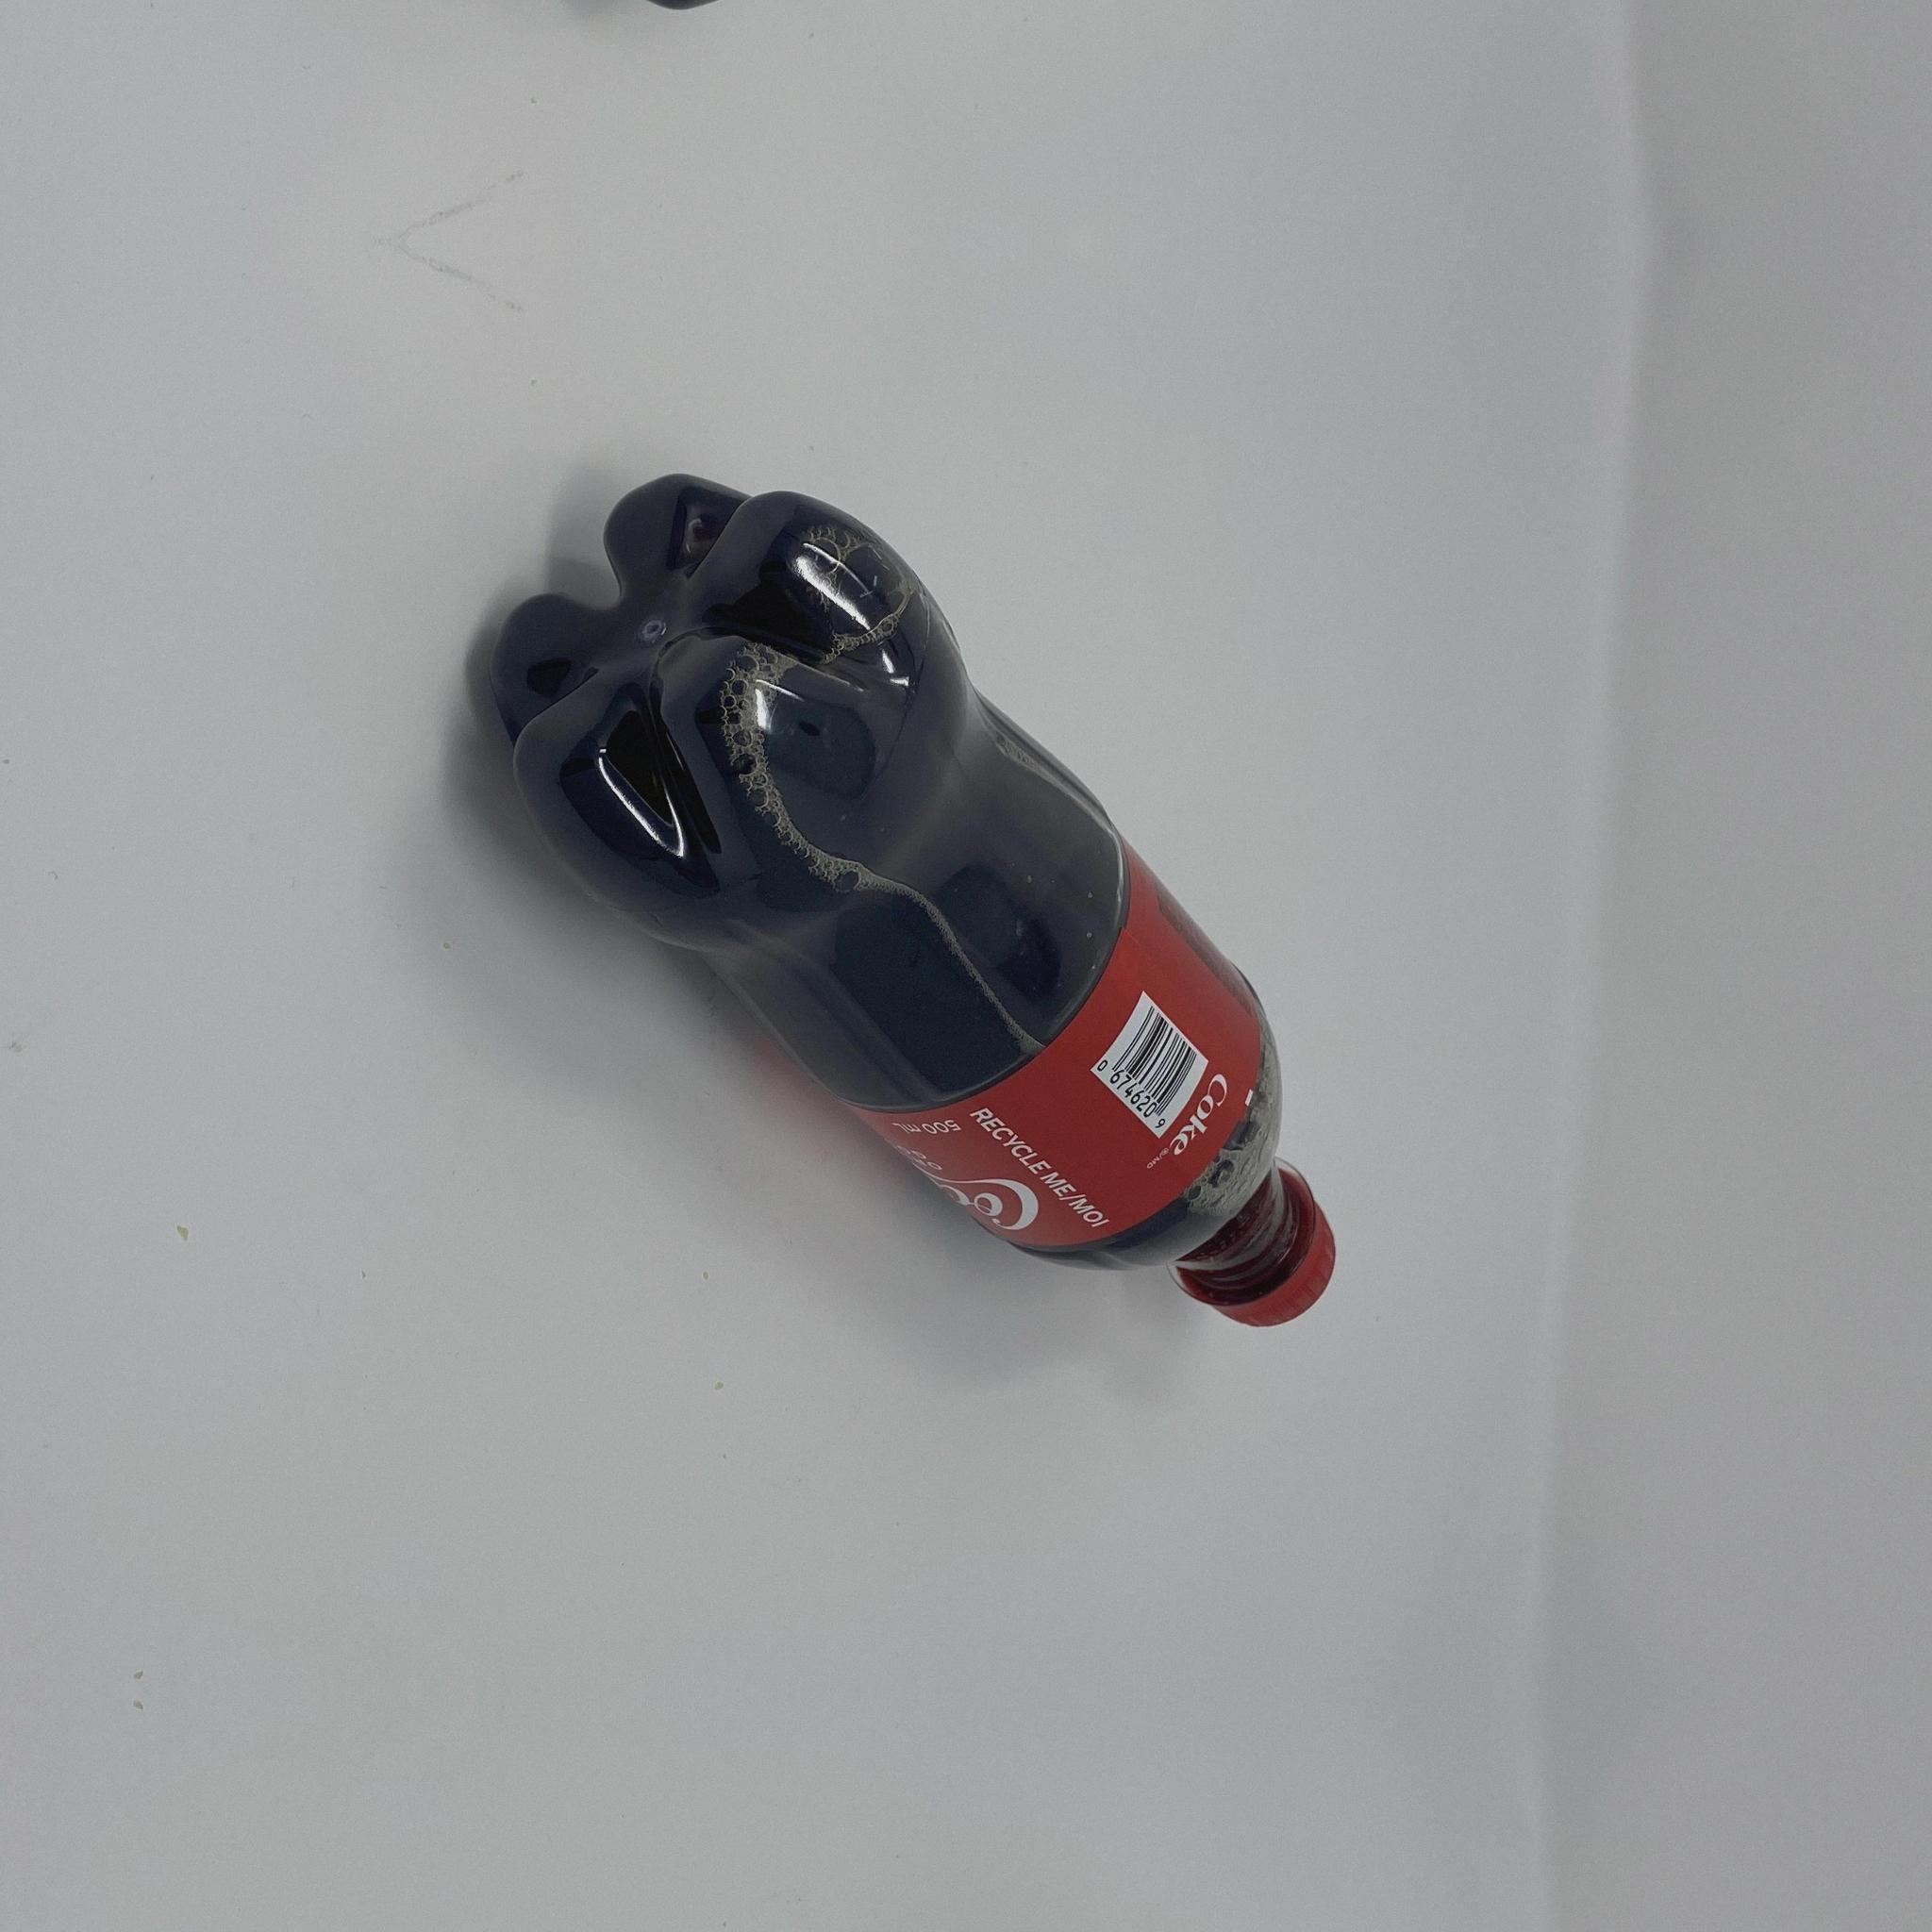PET: (488, 469, 1336, 1329)
cocacola: (488, 469, 1336, 1329)
plastic: (488, 469, 1336, 1329)
soft-drink: (488, 469, 1336, 1329)
